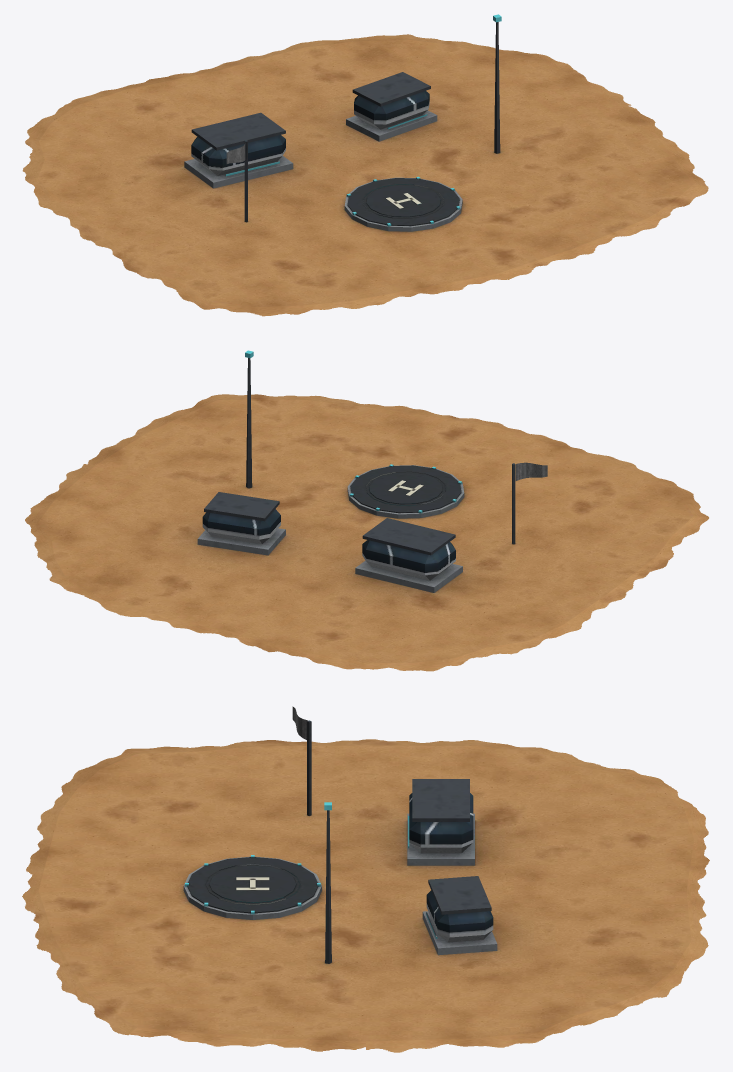
Rendered from outpost-future.glb.
3 renders of one model, top to bottom at view 1: azimuth 30°, elevation 25°; view 2: azimuth 150°, elevation 25°; view 3: azimuth 270°, elevation 25°, orthographic. The views are drawn at different scales.
Visible parts, largest first — view 1: LOD0; view 2: LOD0; view 3: LOD0.
Boxes of the visible parts, x1=… form: LOD0: x1=22, y1=14, x2=708, y2=316; LOD0: x1=25, y1=350, x2=708, y2=671; LOD0: x1=22, y1=706, x2=709, y2=1052.
Size of what is drawn, in the model's own units: 4 by 0.96 by 3.74.
Materials: 3 (3 with a texture image).
